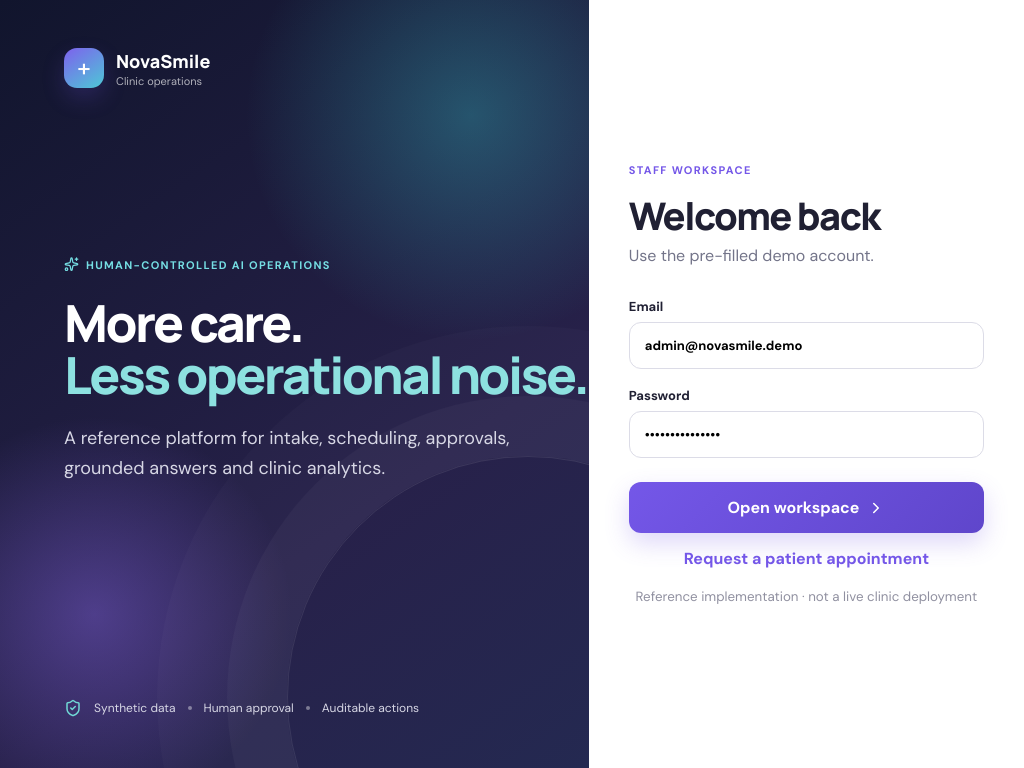
Test case: clinic web application › shows dashboard after valid login
Click the button "Open workspace": (806, 508) [629,482,984,533]
(page scrolled)
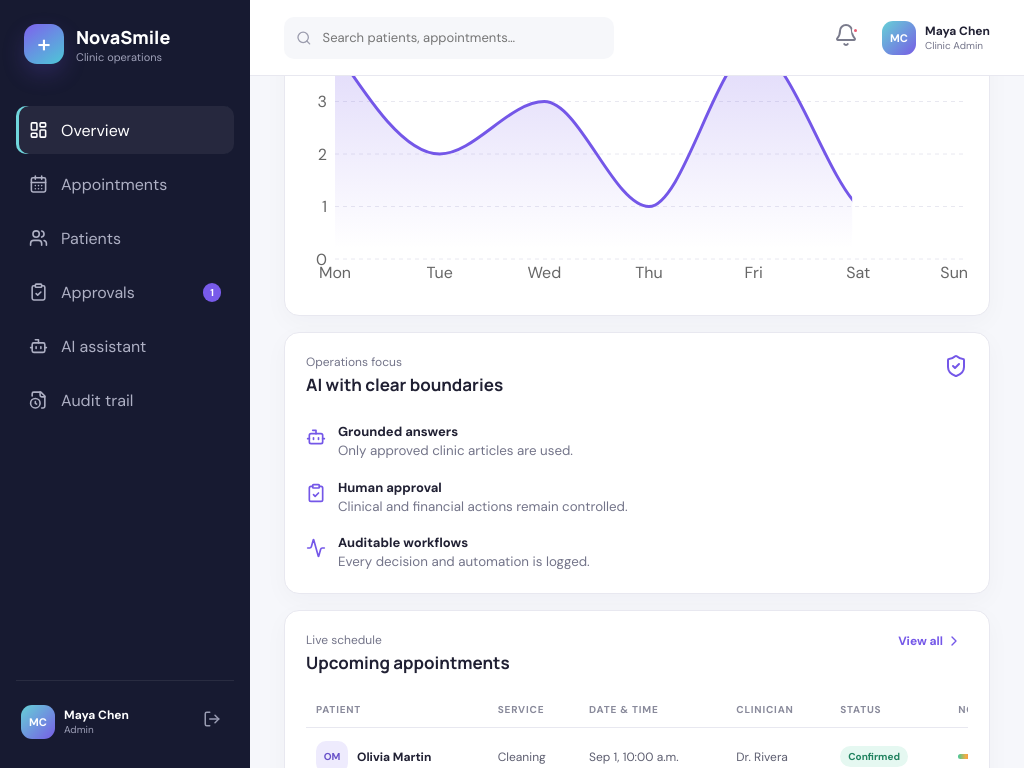
Expected: the heading "AI with clear boundaries" is shown, [306,373,503,396]
